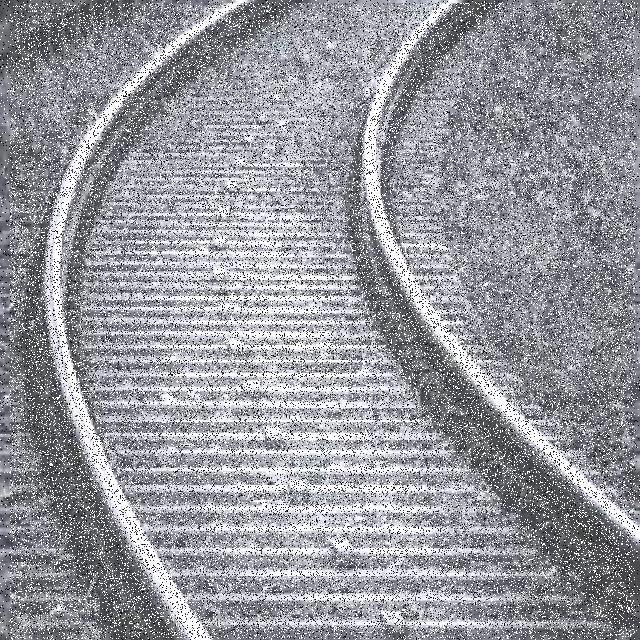rail: (10, 4, 635, 639)
